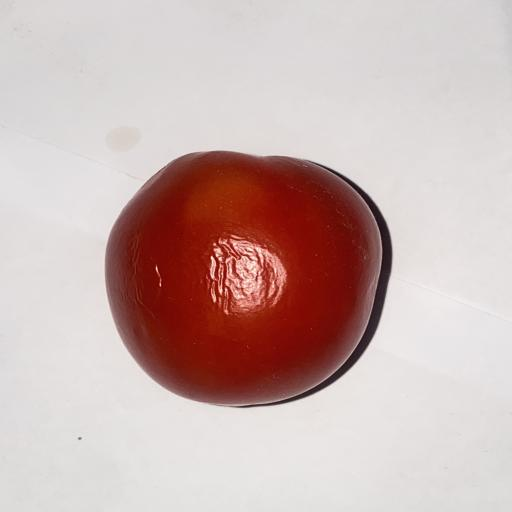overipe: (106, 151, 381, 405)
